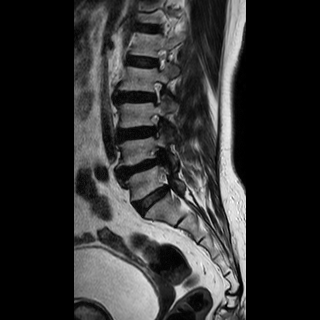RFS0: (149, 44, 171, 75), (146, 76, 166, 110)
RFS2: (143, 110, 164, 141)
